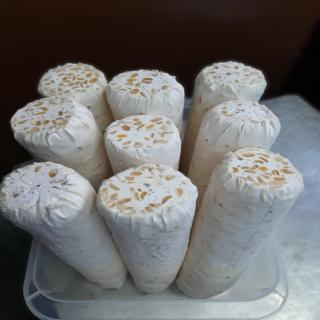Tempe: (176, 148, 305, 300), (1, 162, 129, 291), (97, 163, 200, 295), (188, 99, 282, 210), (181, 61, 268, 174), (11, 96, 112, 192), (106, 70, 186, 137), (38, 63, 113, 133), (104, 115, 183, 176)
